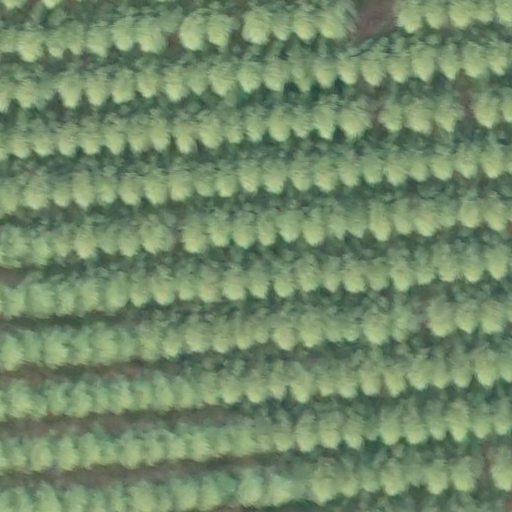eucalipto: (423, 292, 461, 340), (177, 206, 211, 256), (21, 279, 58, 324), (332, 140, 364, 190), (231, 208, 267, 251), (177, 11, 214, 51), (113, 168, 149, 209), (389, 242, 416, 296), (259, 149, 288, 199), (219, 262, 254, 303), (366, 193, 396, 240), (42, 327, 73, 370), (137, 17, 171, 56), (411, 195, 441, 239), (454, 291, 483, 336), (266, 101, 296, 144), (103, 272, 136, 311), (271, 257, 300, 301), (53, 433, 84, 474), (358, 354, 387, 397), (450, 452, 481, 492), (82, 72, 114, 110), (85, 19, 117, 57), (150, 268, 182, 306), (169, 159, 197, 202), (297, 413, 327, 453), (71, 223, 103, 260), (131, 63, 162, 101), (458, 242, 488, 281), (342, 409, 371, 449), (182, 60, 214, 96), (113, 15, 144, 52), (277, 203, 306, 242), (70, 169, 98, 209), (175, 265, 203, 305), (447, 401, 475, 441), (238, 55, 264, 98), (425, 399, 451, 442), (257, 206, 284, 247), (199, 109, 226, 150), (299, 246, 322, 294), (46, 375, 74, 414), (320, 409, 347, 449), (147, 111, 172, 154), (28, 123, 57, 160), (430, 352, 457, 391), (469, 404, 496, 443), (386, 145, 411, 187), (274, 311, 300, 351), (337, 358, 363, 398), (77, 120, 104, 158), (116, 433, 143, 471), (338, 46, 361, 90), (344, 253, 369, 293), (90, 326, 117, 363), (424, 458, 451, 495), (404, 406, 431, 443), (109, 374, 133, 415), (455, 193, 482, 229), (29, 436, 55, 471), (322, 251, 345, 290), (65, 20, 89, 57), (315, 50, 339, 87), (118, 221, 140, 255)
